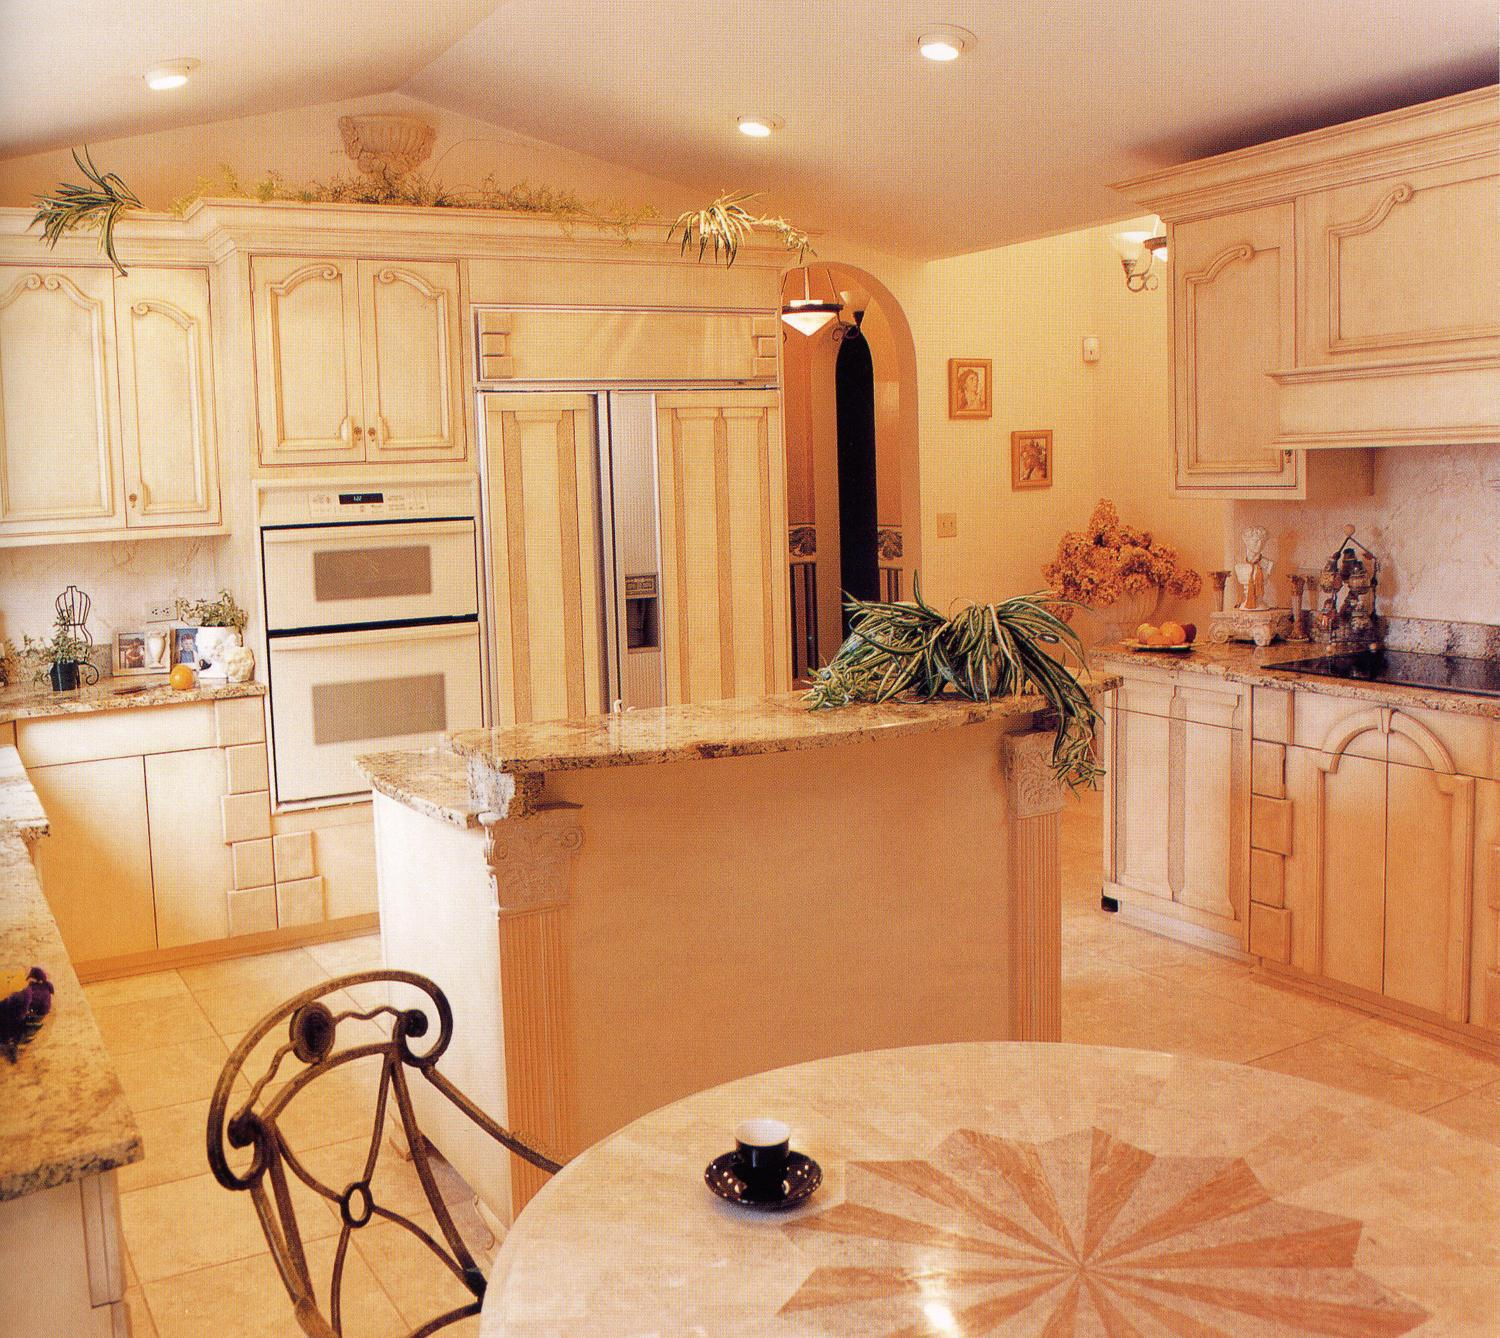Electrodomestico: (478, 382, 788, 688), (270, 493, 463, 780)
Matera: (829, 594, 1058, 715)
